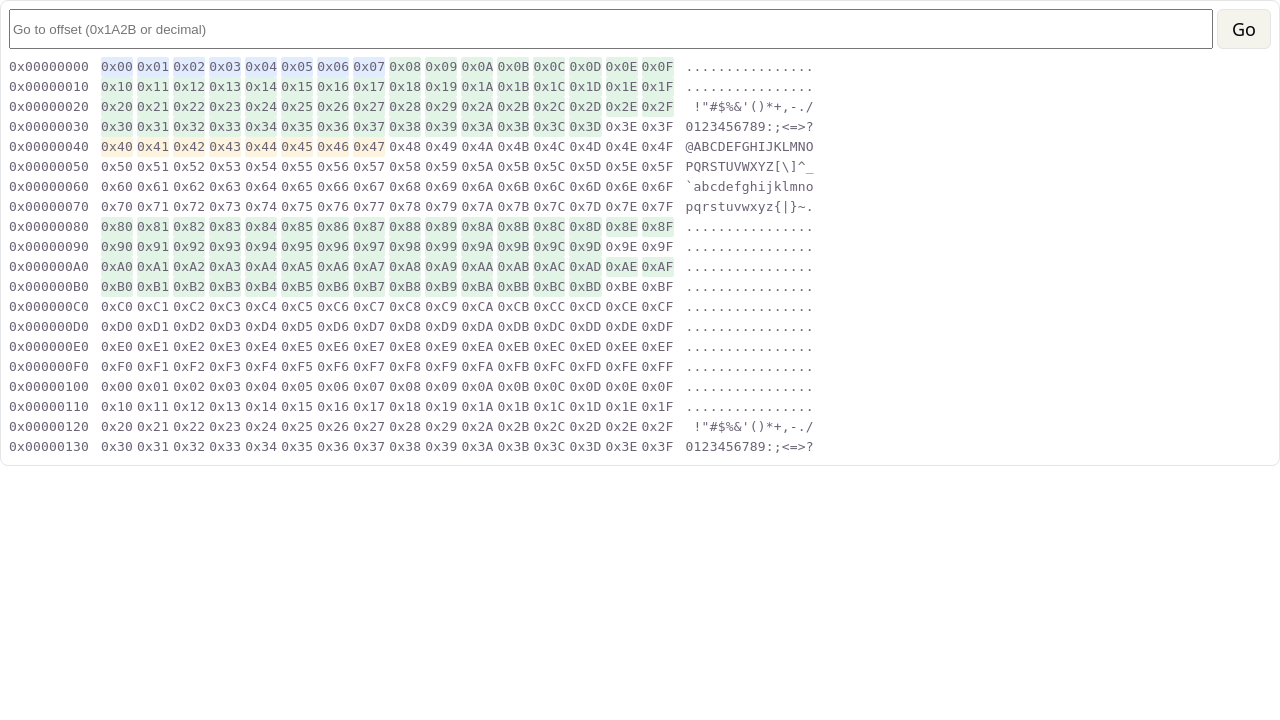
it: HexViewer › shift-click selects a range and shows length and interpretations
What coordinates should you click on to do the following:
click the text "0x02" in the row of "0x00000000"
I would click on:
 (189, 67)
Its box is [173,57,205,77].
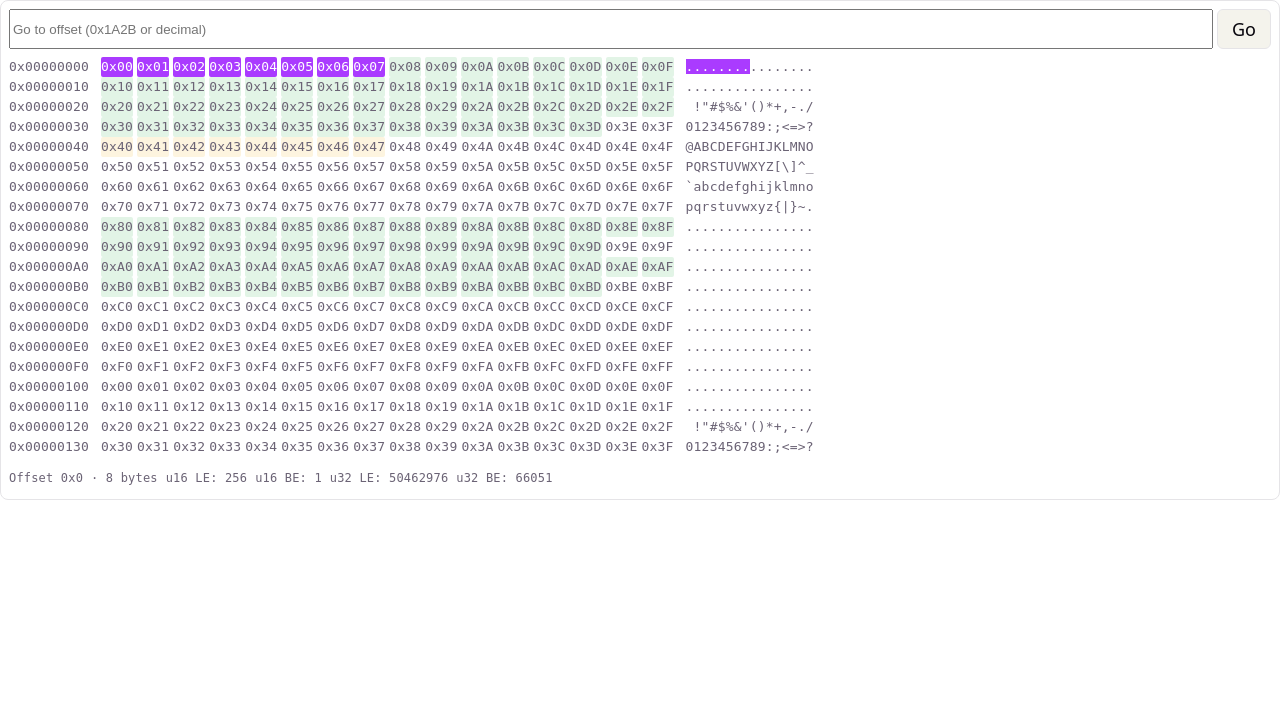
What coordinates should you click on to do the following:
click the text "0x09" in the row of "0x00000000"
I would click on:
 (441, 67)
Its box is [425,57,457,77].
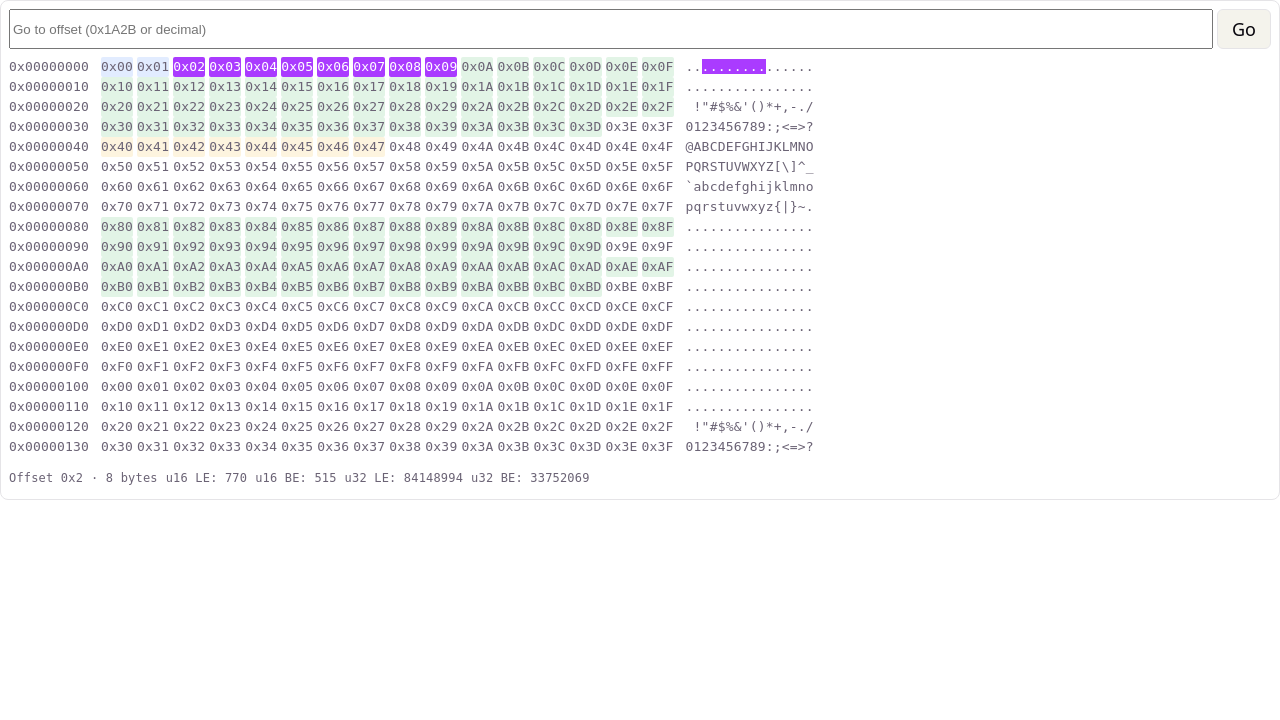
Expected: the text with test id "hex-length" shows "8 bytes", [91,471,158,485]
Expected: the text with test id "hex-interp" reads "u16 LE: 770", [166,471,247,485]
Expected: the text with test id "hex-interp" reads "u16 BE: 515", [255,471,337,485]
